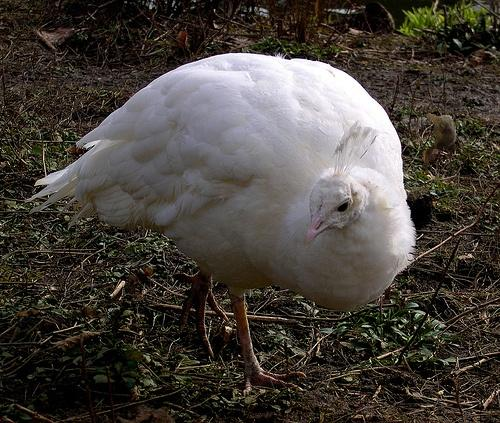tampered: (423, 114, 456, 175)
